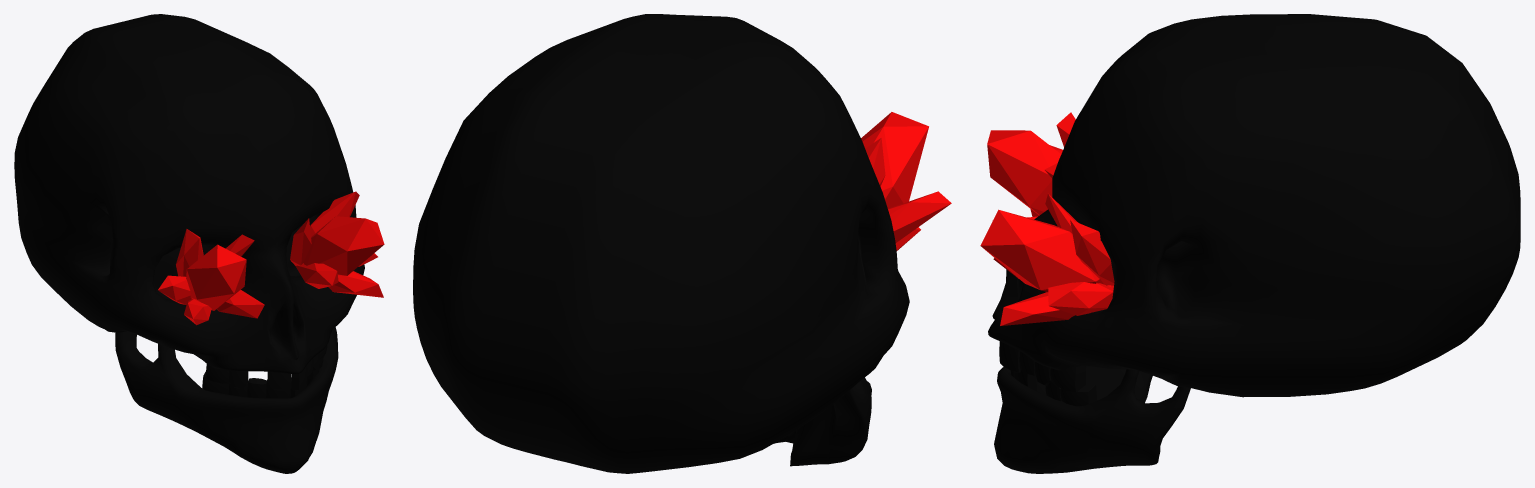
File: 3dm_SkullWCrystal.fbx
The picture shows the model from 3 angles, left to right: view 1: azimuth 30°, elevation 25°; view 2: azimuth 150°, elevation 25°; view 3: azimuth 270°, elevation 25°; orthographic projection. The views are drawn at different scales.
Visible parts, largest first — view 1: Skull, Jaw, Crystal2 (×2), Crystal7 (×2), Crystal5 (×2), Crystal3 (×2), Crystal6, Crystal4, UpperTooth3, UpperTooth2; view 2: Skull, Jaw, Crystal2, Crystal3, Crystal5; view 3: Skull, Jaw, Crystal2 (×2), Crystal4, Crystal7, Crystal3, UpperTooth6, LowerTooth1.
Boxes of the visible parts, <box> form: Skull: <box>14,14,364,374</box>; Jaw: <box>115,327,338,473</box>; Crystal2 (×2): <box>186,216,384,310</box>; Crystal7 (×2): <box>217,191,359,318</box>; Crystal5 (×2): <box>176,229,338,288</box>; Crystal3 (×2): <box>158,271,383,304</box>; Crystal6: <box>290,218,311,265</box>; Crystal4: <box>184,299,211,325</box>; UpperTooth3: <box>267,371,291,390</box>; UpperTooth2: <box>229,353,319,388</box>; Skull: <box>413,14,909,473</box>; Jaw: <box>774,377,871,466</box>; Crystal2: <box>861,112,928,208</box>; Crystal3: <box>888,191,951,242</box>; Crystal5: <box>865,138,885,186</box>; Skull: <box>988,14,1520,397</box>; Jaw: <box>994,366,1190,473</box>; Crystal2 (×2): <box>980,130,1103,292</box>; Crystal4: <box>1048,282,1113,315</box>; Crystal7: <box>1070,219,1114,285</box>; Crystal3: <box>1000,292,1074,325</box>; UpperTooth6: <box>1050,365,1085,391</box>; LowerTooth1: <box>1060,382,1096,406</box>.
Bounding box in the file's own units: 38.8 × 48.96 × 55.83.
